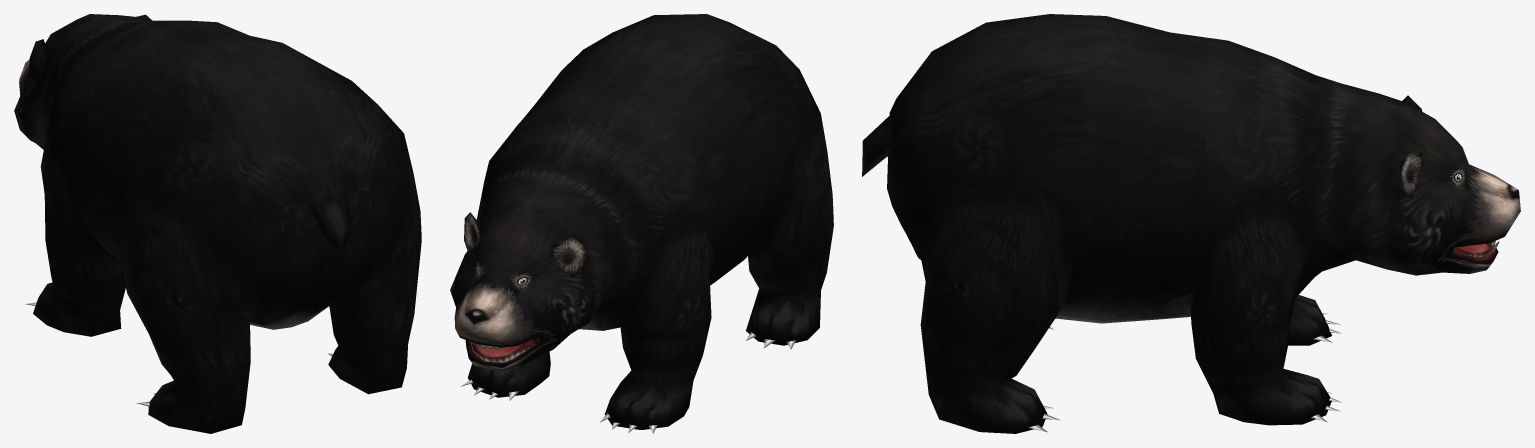
The picture shows the model from 3 angles, left to right: view 1: azimuth 30°, elevation 25°; view 2: azimuth 150°, elevation 25°; view 3: azimuth 270°, elevation 25°; orthographic projection. The views are drawn at different scales.
Visible parts, largest first — view 1: Mesh_0102.rip_noesis_meshnode_0000; view 2: Mesh_0102.rip_noesis_meshnode_0000; view 3: Mesh_0102.rip_noesis_meshnode_0000.
Part boxes in pixels (left/top/right/bottom): Mesh_0102.rip_noesis_meshnode_0000: left=14, top=14, right=421, bottom=433; Mesh_0102.rip_noesis_meshnode_0000: left=450, top=14, right=833, bottom=433; Mesh_0102.rip_noesis_meshnode_0000: left=862, top=14, right=1520, bottom=433.
Size of the model in its own units: 1.08 by 1.14 by 2.01.
1 material, 1 textured.
